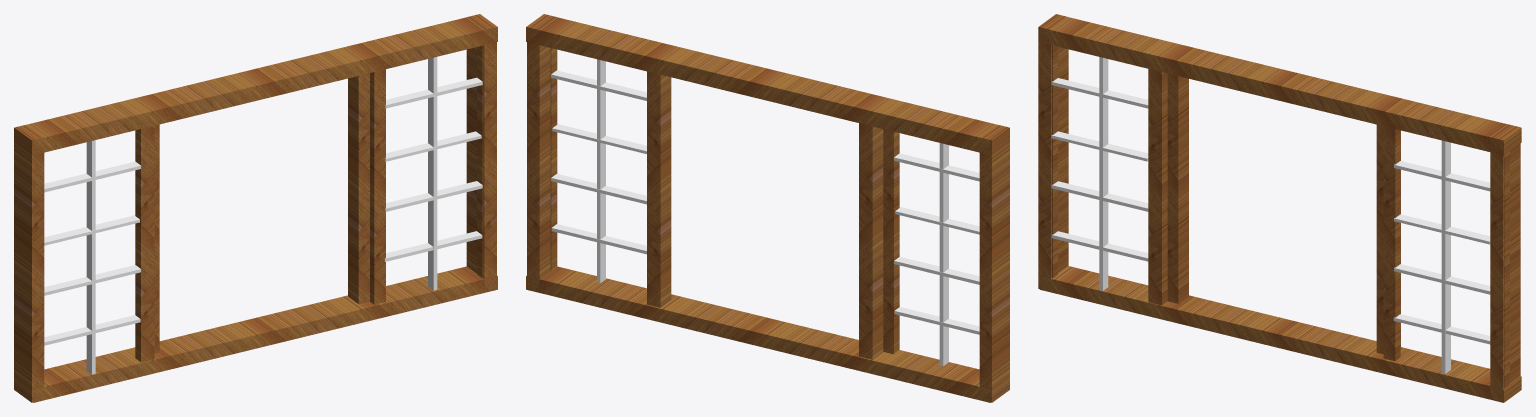
File: DianaWindow.glb
The picture shows the model from 3 angles, left to right: view 1: azimuth 30°, elevation 25°; view 2: azimuth 150°, elevation 25°; view 3: azimuth 330°, elevation 25°; orthographic projection.
Parts seen in each view (by area): view 1: Cube_3_2, Cube_3_1, Cube_3_3, Cube_3_4, Cube_5_1, Cube_5_4, Cube_5_2, Cube_6, Cube_6_1, Cube_5_3, Cube_5, Cube_7 (+7 smaller); view 2: Cube_3_2, Cube_3_1, Cube_3_3, Cube_3_4, Cube_5, Cube_5_1, Cube_5_4, Cube_6_1, Cube_6, Cube_5_3, Cube_7_2, Cube_7 (+6 smaller); view 3: Cube_3_2, Cube_3_1, Cube_3_4, Cube_3_3, Cube_5, Cube_5_4, Cube_5_2, Cube_6, Cube_6_1, Cube_5_1, Cube_5_3, Cube_5_5 (+8 smaller).
Boxes of the visible parts, x1=… form: Cube_3_2: x1=27, y1=14, x2=497, y2=154; Cube_3_1: x1=33, y1=266, x2=497, y2=402; Cube_3_3: x1=14, y1=124, x2=44, y2=402; Cube_3_4: x1=466, y1=14, x2=496, y2=292; Cube_5_1: x1=348, y1=73, x2=369, y2=303; Cube_5_4: x1=135, y1=125, x2=154, y2=362; Cube_5_2: x1=370, y1=69, x2=385, y2=304; Cube_6: x1=428, y1=57, x2=437, y2=290; Cube_6_1: x1=86, y1=140, x2=95, y2=374; Cube_5_3: x1=477, y1=45, x2=483, y2=278; Cube_5: x1=154, y1=124, x2=159, y2=353; Cube_7: x1=385, y1=77, x2=482, y2=108; Cube_3_2: x1=526, y1=14, x2=996, y2=155; Cube_3_1: x1=526, y1=266, x2=990, y2=402; Cube_3_3: x1=979, y1=124, x2=1009, y2=402; Cube_3_4: x1=527, y1=14, x2=557, y2=291; Cube_5: x1=859, y1=123, x2=883, y2=359; Cube_5_1: x1=647, y1=71, x2=671, y2=307; Cube_5_4: x1=883, y1=129, x2=899, y2=354; Cube_6_1: x1=939, y1=143, x2=948, y2=366; Cube_6: x1=597, y1=59, x2=605, y2=283; Cube_5_3: x1=550, y1=48, x2=556, y2=271; Cube_7_2: x1=551, y1=174, x2=646, y2=204; Cube_7: x1=551, y1=70, x2=646, y2=100; Cube_3_2: x1=1040, y1=17, x2=1521, y2=155; Cube_3_1: x1=1040, y1=266, x2=1521, y2=402; Cube_3_4: x1=1490, y1=124, x2=1520, y2=401; Cube_3_3: x1=1038, y1=14, x2=1068, y2=291; Cube_5: x1=1167, y1=73, x2=1188, y2=303; Cube_5_4: x1=1148, y1=69, x2=1167, y2=305; Cube_5_2: x1=1383, y1=126, x2=1400, y2=361; Cube_6: x1=1441, y1=140, x2=1450, y2=373; Cube_6_1: x1=1099, y1=57, x2=1108, y2=290; Cube_5_1: x1=1376, y1=124, x2=1400, y2=354; Cube_5_3: x1=1504, y1=151, x2=1509, y2=388; Cube_5_5: x1=1052, y1=45, x2=1057, y2=278.
Size of the model in its own units: 4.46 by 2.41 by 0.2933.
2 materials, 1 textured.
